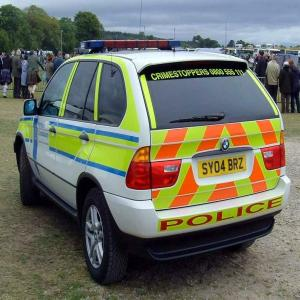Vehicle-registration-plate: (199, 155, 248, 179)
